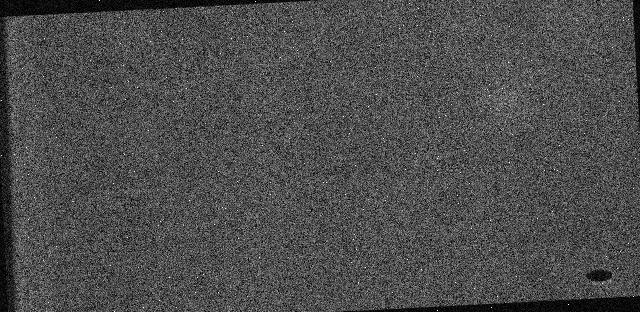punching_hole: (577, 264, 618, 288)
